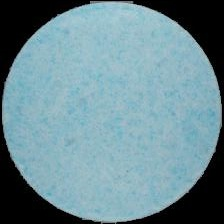68788-6762: (0, 0, 224, 224)
